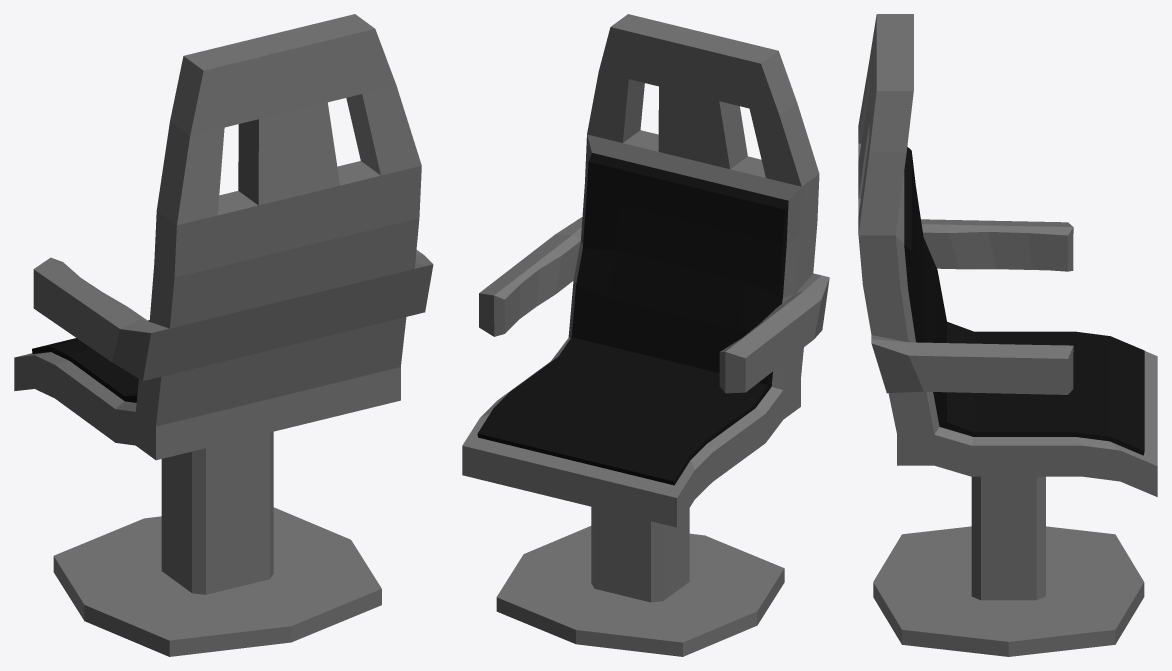
Rendered from Props_ControlRoom_CommandChair.fbx.
3 renders of one model, left to right at view 1: azimuth 30°, elevation 25°; view 2: azimuth 150°, elevation 25°; view 3: azimuth 270°, elevation 25°, orthographic. The views are drawn at different scales.
Visible parts, largest first — view 1: Cube.003; view 2: Cube.003; view 3: Cube.003.
Boxes of the visible parts, <box> form: Cube.003: <box>14,14,433,656</box>; Cube.003: <box>462,14,829,656</box>; Cube.003: <box>858,14,1157,656</box>.
Size of the model in its own units: 318 by 591 by 294.
